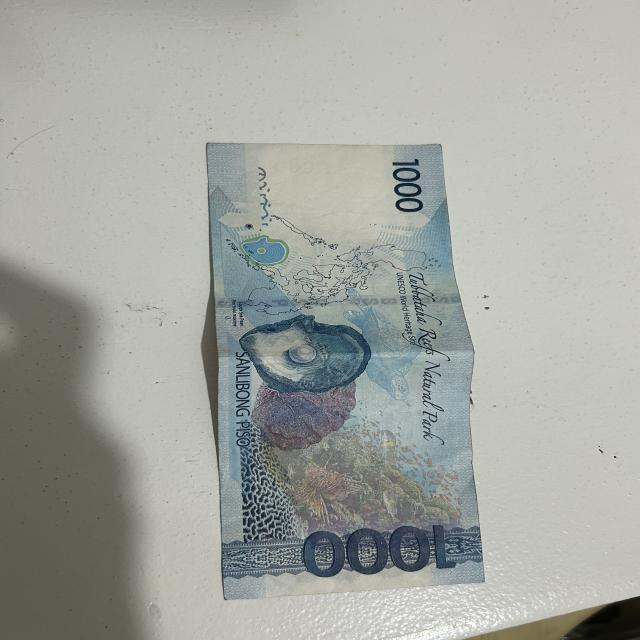serial_number: (386, 160, 439, 222)
